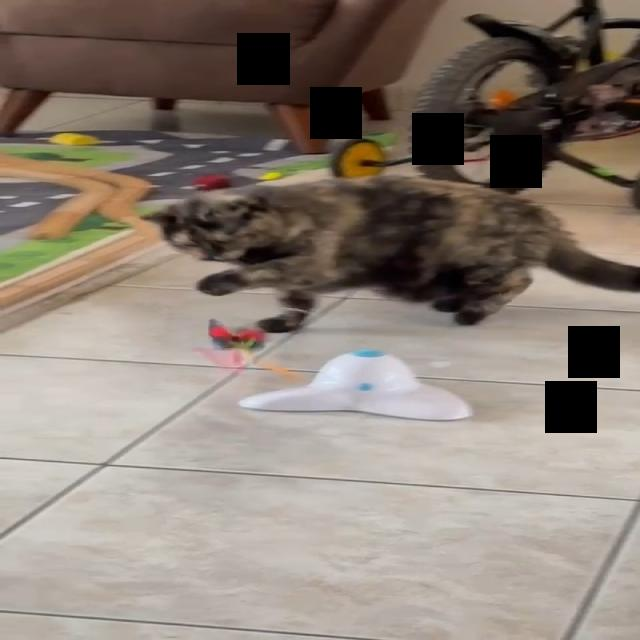authorized: (140, 174, 639, 332)
